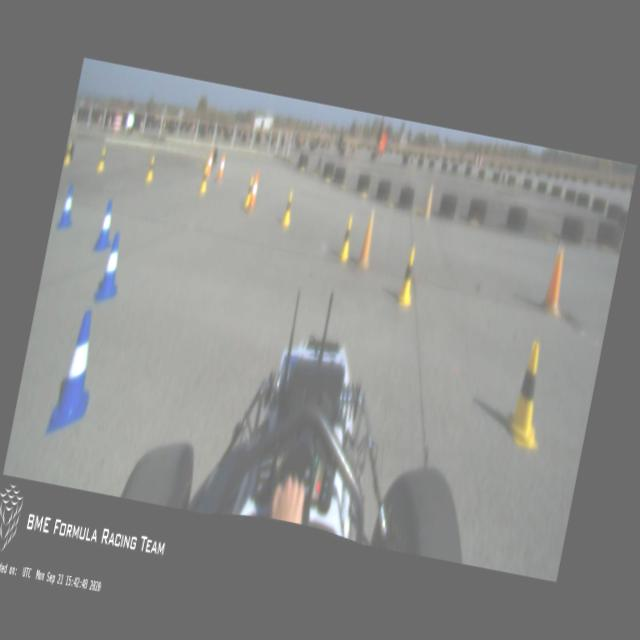blue_cone: (45, 308, 105, 441), (92, 230, 128, 306), (93, 199, 119, 254), (56, 185, 80, 232)
orange_cone: (249, 172, 261, 209), (424, 184, 436, 218), (216, 154, 226, 182), (205, 149, 215, 177)
unknown_cone: (540, 247, 572, 318), (357, 207, 380, 270)
yellow_cone: (500, 337, 558, 450), (396, 248, 420, 310), (337, 216, 356, 263), (281, 190, 295, 228), (243, 176, 255, 209), (198, 166, 210, 194), (96, 146, 108, 174), (144, 156, 156, 183), (64, 142, 74, 168)
